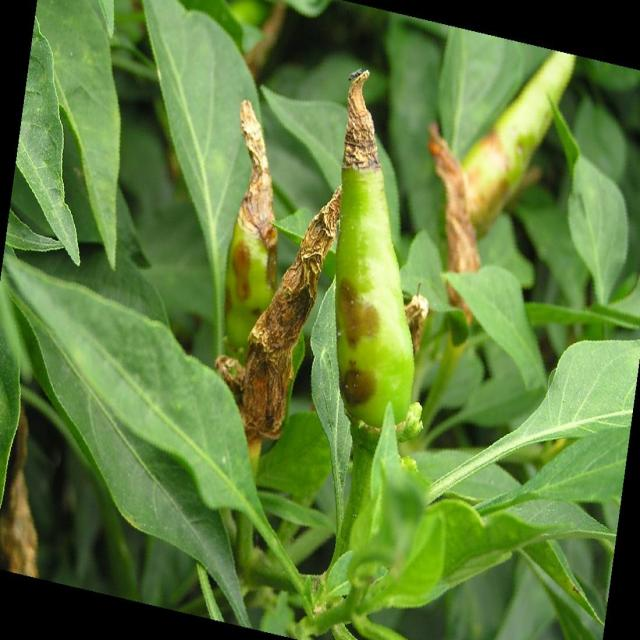Moko: (220, 192, 347, 446), (231, 97, 286, 252), (338, 52, 396, 193)
